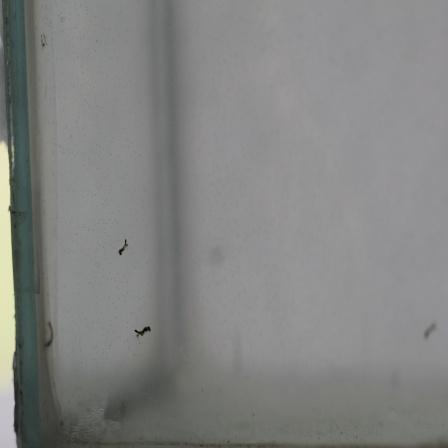Jentik-Nyamuk: (40, 316, 58, 353), (130, 322, 154, 343), (117, 235, 129, 261)
